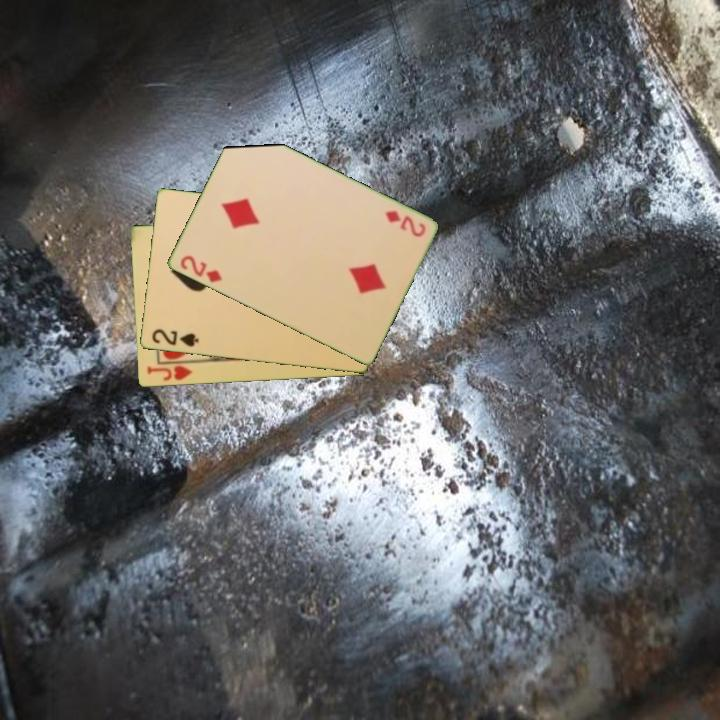2d: (176, 252, 225, 286), (381, 207, 428, 240)
2s: (148, 326, 201, 350)
Jh: (143, 362, 195, 384)
